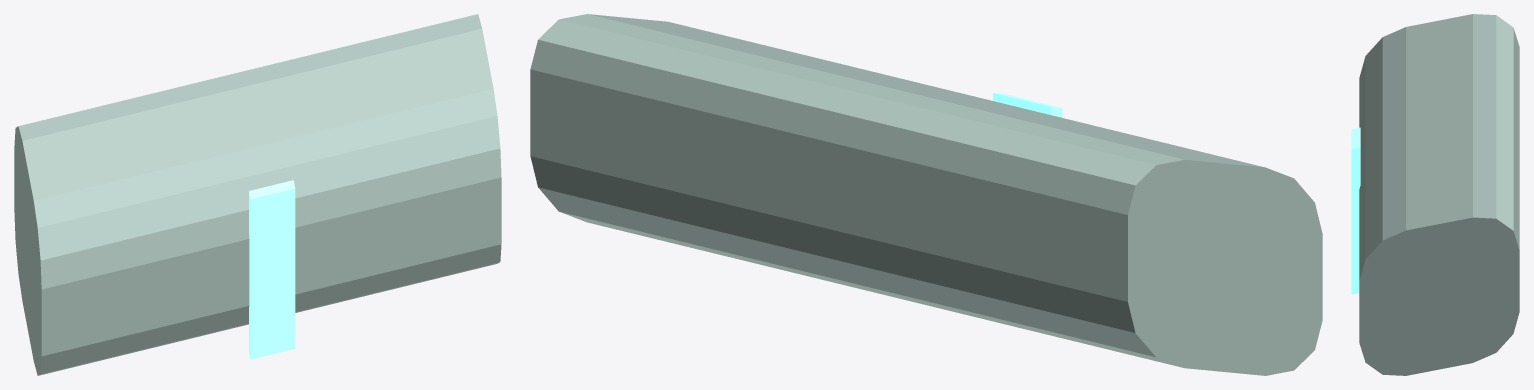
Rendered from Door_LeafFolded.gltf.
The picture shows the model from 3 angles, left to right: view 1: azimuth 30°, elevation 25°; view 2: azimuth 150°, elevation 25°; view 3: azimuth 270°, elevation 25°; orthographic projection. The views are drawn at different scales.
Visible parts, largest first — view 1: Door_LeafFolded_baked; view 2: Door_LeafFolded_baked; view 3: Door_LeafFolded_baked.
Part boxes in pixels (<box>): Door_LeafFolded_baked: <box>14,14,501,375</box>; Door_LeafFolded_baked: <box>530,14,1322,375</box>; Door_LeafFolded_baked: <box>1351,14,1519,375</box>.
Bounding box in the file's own units: 0.816 × 0.3174 × 0.252.
